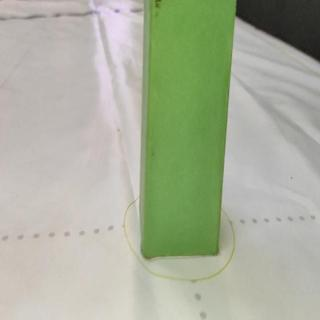greenbox: (140, 0, 238, 254)
